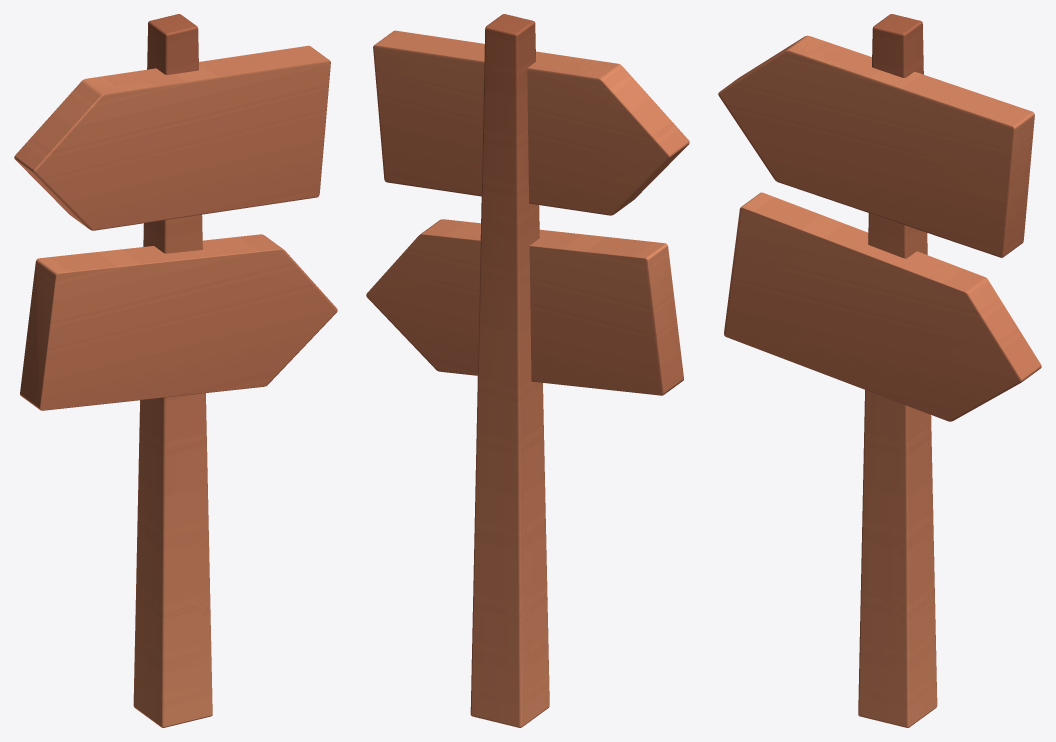
File: signpost.glb
3 renders of one model, left to right at view 1: azimuth 30°, elevation 25°; view 2: azimuth 150°, elevation 25°; view 3: azimuth 330°, elevation 25°, orthographic.
Visible parts, largest first — view 1: signpost; view 2: signpost; view 3: signpost.
Boxes of the visible parts, x1=… form: signpost: x1=14, y1=14, x2=337, y2=727; signpost: x1=366, y1=14, x2=689, y2=727; signpost: x1=718, y1=14, x2=1041, y2=727.
Size of the model in its own units: 0.2126 by 0.4601 by 0.043.
Materials: 1 (1 with a texture image).
